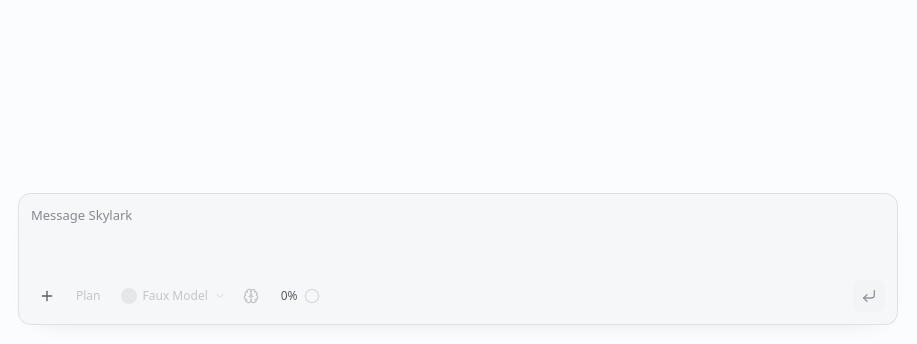
Test: ChatWorkbench › opens the shared composer suggestion panel when only slash is typed
Type "/" into the text box labelled "Message Skylark" at [458, 234], box [19,194,897,274]
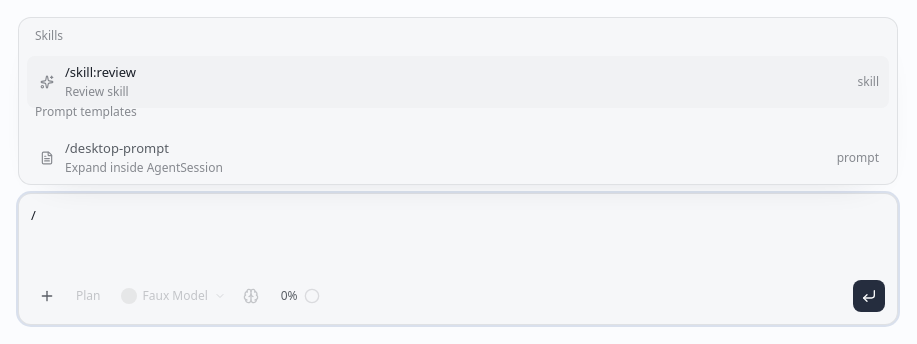
Result: the list named "Composer suggestions" is shown at [18,17,898,185]
Result: the text "Skills" is shown at [35,27,63,44]
Result: the text "Prompt templates" is shown at [35,103,137,120]
